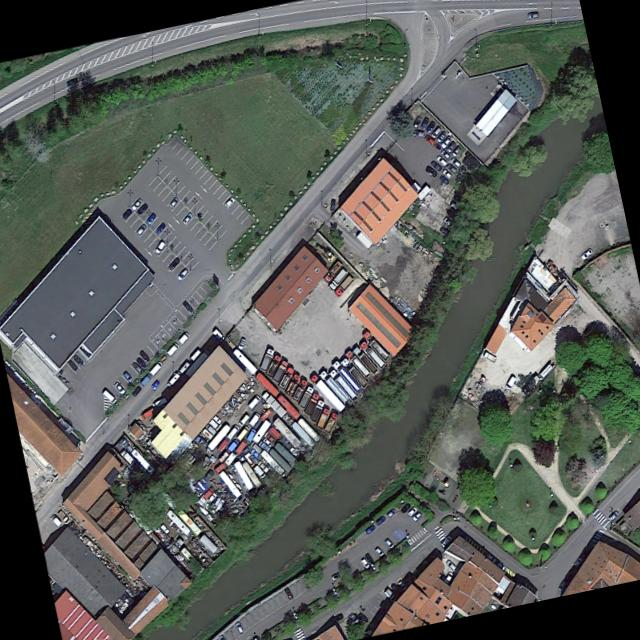large-vehicle: (309, 374, 344, 411), (331, 359, 360, 394), (318, 370, 347, 403), (327, 368, 356, 401), (361, 329, 389, 361), (339, 357, 367, 388), (203, 422, 230, 453), (351, 345, 377, 375), (358, 340, 384, 368), (344, 349, 369, 377), (326, 267, 347, 291), (332, 274, 352, 297), (321, 260, 341, 283), (520, 373, 539, 397), (290, 377, 307, 402), (302, 392, 319, 416), (270, 359, 287, 383), (283, 372, 299, 397), (257, 347, 273, 371), (308, 398, 323, 423), (297, 385, 313, 408), (264, 353, 280, 376), (277, 365, 292, 389), (322, 411, 337, 434), (536, 360, 553, 379), (314, 407, 328, 428), (100, 388, 116, 404), (55, 507, 69, 525), (165, 371, 180, 387), (234, 425, 249, 440), (381, 586, 396, 601), (223, 449, 237, 465), (215, 436, 229, 452), (251, 463, 265, 479), (175, 359, 189, 375), (210, 326, 224, 342), (148, 359, 162, 375), (48, 512, 62, 527), (481, 349, 496, 363), (151, 395, 166, 409), (139, 406, 154, 420), (246, 393, 259, 409), (206, 417, 220, 431), (165, 341, 179, 355), (225, 423, 238, 438), (503, 374, 515, 390), (244, 426, 256, 442), (248, 440, 261, 454), (247, 411, 259, 426), (236, 412, 248, 427), (177, 330, 189, 344), (203, 423, 216, 435), (139, 372, 151, 385), (226, 438, 237, 452)
small-vehicle: (328, 567, 343, 581), (111, 379, 125, 394), (166, 255, 179, 271), (346, 610, 360, 624), (181, 298, 193, 314), (579, 246, 592, 260), (255, 459, 269, 472), (439, 533, 452, 547), (175, 265, 188, 279), (129, 360, 143, 373), (439, 133, 451, 148), (570, 554, 582, 569), (180, 210, 192, 225), (143, 210, 155, 225), (135, 201, 147, 216), (152, 240, 164, 255), (606, 508, 619, 521), (119, 206, 132, 219), (256, 439, 270, 451), (167, 194, 179, 208), (154, 220, 166, 234), (137, 348, 149, 362), (71, 352, 83, 366), (121, 369, 133, 383), (363, 522, 375, 535), (444, 558, 457, 570), (441, 214, 453, 227), (201, 468, 213, 481), (157, 521, 169, 534), (388, 581, 401, 593), (134, 222, 146, 235), (134, 355, 146, 368), (282, 586, 293, 600), (442, 569, 453, 583), (448, 155, 460, 167), (434, 154, 446, 166), (424, 165, 436, 177), (484, 550, 496, 562), (130, 198, 142, 210), (222, 195, 234, 207), (429, 125, 440, 138), (422, 133, 435, 144), (399, 500, 410, 513), (373, 544, 384, 557), (66, 358, 77, 371), (424, 119, 434, 133), (233, 619, 243, 633), (235, 336, 245, 350), (429, 159, 441, 170), (440, 168, 452, 179), (363, 552, 374, 564), (437, 225, 449, 236), (331, 611, 343, 622), (493, 557, 503, 570), (445, 139, 455, 152), (435, 129, 445, 142), (64, 76, 77, 86), (419, 115, 428, 129), (385, 506, 396, 517), (374, 514, 385, 525), (210, 412, 221, 423), (411, 115, 421, 127), (406, 504, 416, 516), (383, 536, 393, 548), (359, 556, 369, 568), (130, 384, 140, 396), (439, 148, 449, 159), (445, 162, 456, 172), (261, 436, 271, 447), (448, 199, 458, 210), (410, 510, 420, 520), (396, 579, 406, 589), (450, 145, 459, 156), (438, 174, 447, 185), (324, 248, 335, 257), (149, 379, 158, 390), (525, 10, 537, 18), (264, 432, 273, 442), (412, 129, 423, 136), (328, 198, 334, 210), (217, 634, 225, 640)
